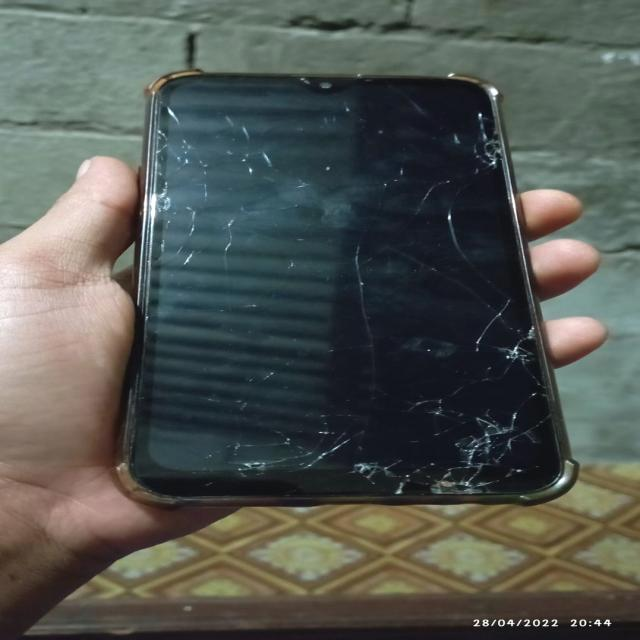phone: (145, 72, 569, 508)
